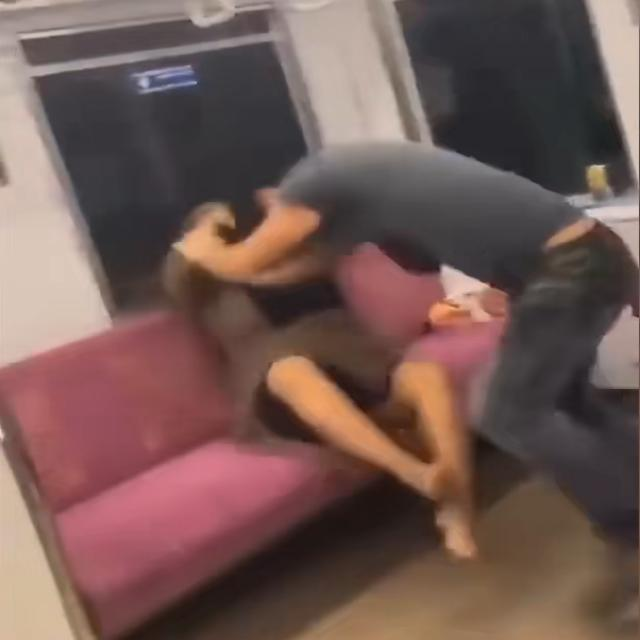fight: (163, 147, 541, 327)
